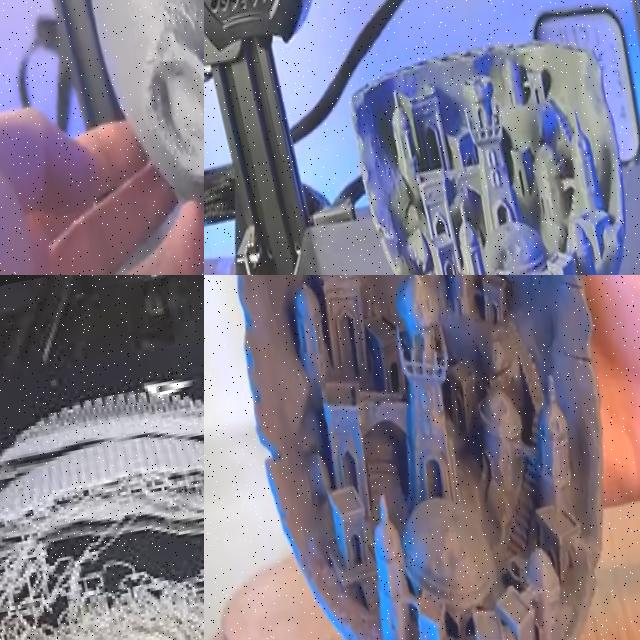spaghetti: (0, 460, 204, 640)
